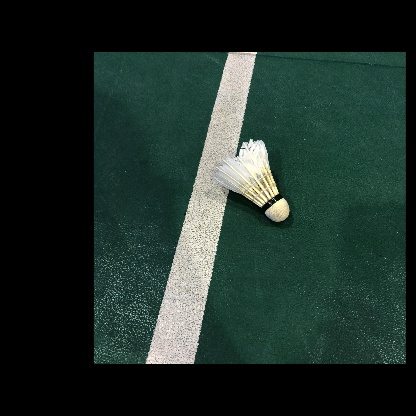ball_single: (213, 139, 289, 222)
